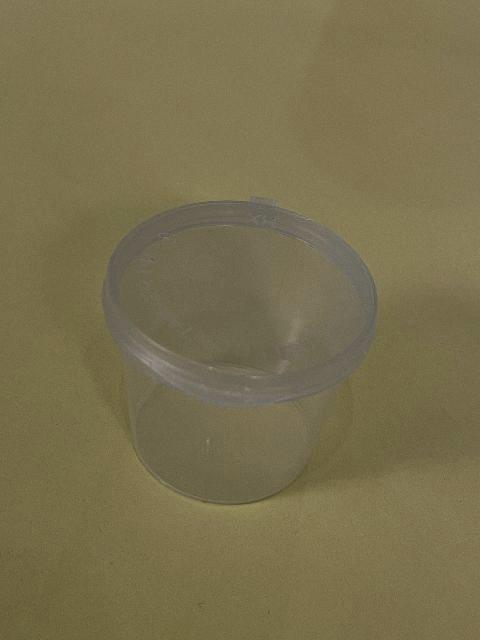plasticcontainer: (102, 192, 378, 508)
